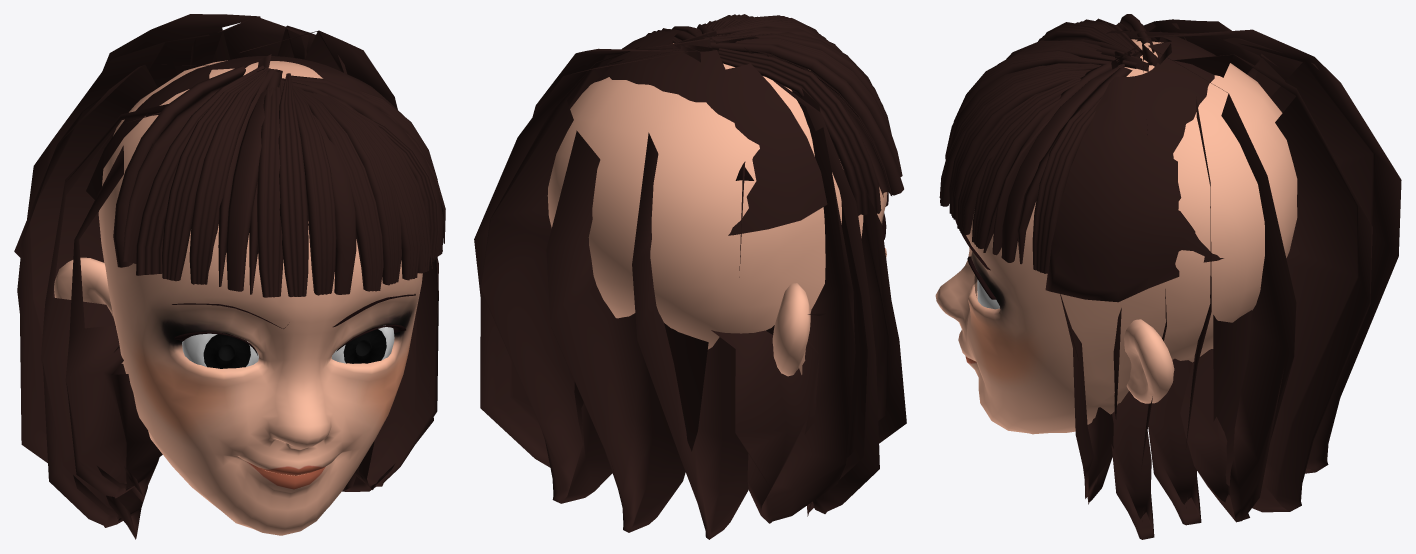
File: fm-head-hair.glb
The picture shows the model from 3 angles, left to right: view 1: azimuth 30°, elevation 25°; view 2: azimuth 150°, elevation 25°; view 3: azimuth 270°, elevation 25°; orthographic projection. The views are drawn at different scales.
Parts seen in each view (by area): view 1: fm_hair, fm_head, fm_eyes, fm_eyebrow; view 2: fm_hair, fm_head; view 3: fm_hair, fm_head.
Boxes of the visible parts, left/top/right/bottom form: fm_hair: left=14, top=14, right=445, bottom=539; fm_head: left=54, top=60, right=422, bottom=535; fm_eyes: left=182, top=325, right=394, bottom=368; fm_eyebrow: left=172, top=294, right=415, bottom=355; fm_hair: left=474, top=14, right=906, bottom=539; fm_head: left=547, top=43, right=887, bottom=376; fm_hair: left=939, top=14, right=1401, bottom=539; fm_head: left=935, top=39, right=1297, bottom=434.
Size of the model in its own units: 0.2664 by 0.3115 by 0.2938.
Materials: 7 (1 with a texture image).
